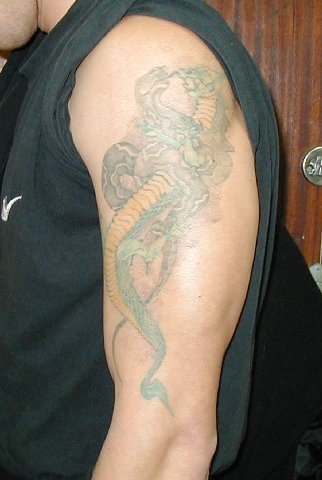tatu6_drakon: (96, 41, 244, 434)
